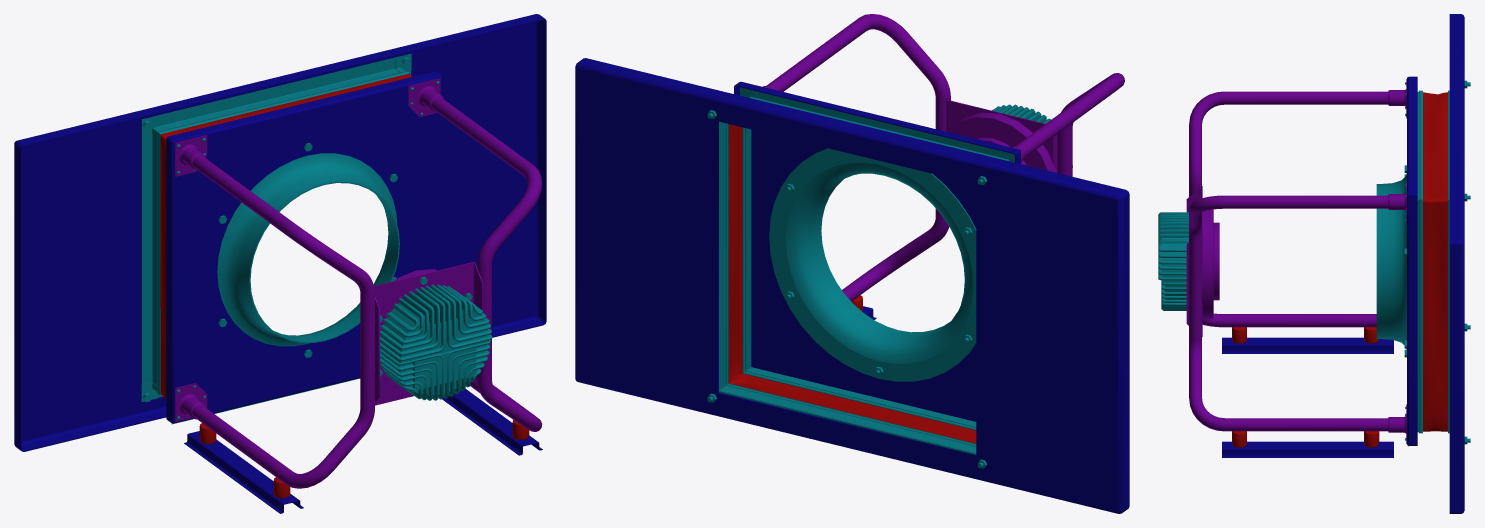
The model's file is vent_nasos_korp.FBX.
3 renders of one model, left to right at view 1: azimuth 30°, elevation 25°; view 2: azimuth 150°, elevation 25°; view 3: azimuth 270°, elevation 25°, orthographic. The views are drawn at different scales.
Visible parts, largest first — view 1: vent_nasos_korp; view 2: vent_nasos_korp; view 3: vent_nasos_korp.
Boxes of the visible parts, left/top/right/bottom form: vent_nasos_korp: left=14, top=14, right=546, bottom=513; vent_nasos_korp: left=575, top=14, right=1129, bottom=513; vent_nasos_korp: left=1158, top=14, right=1470, bottom=513.
Size of the model in its own units: 899 by 501 by 518.
